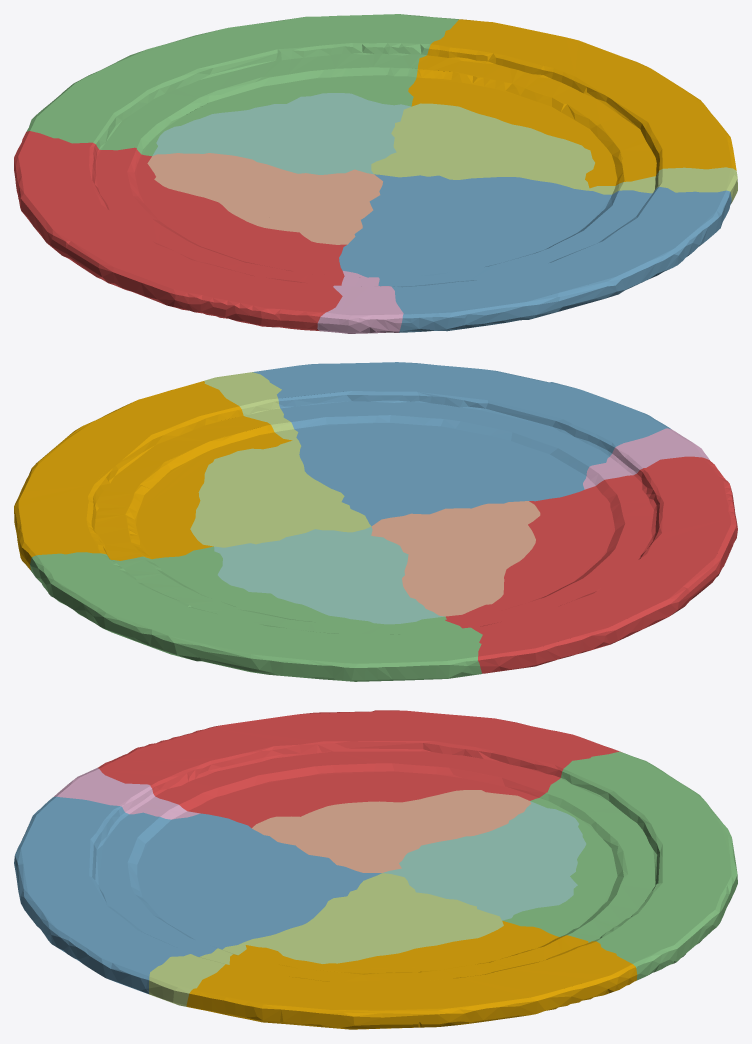
File: fractured_20_8pcs.glb
3 views of the same model, one above another, from view 1: azimuth 30°, elevation 25°; view 2: azimuth 150°, elevation 25°; view 3: azimuth 270°, elevation 25° (orthographic).
Visible parts, largest first — view 1: piece_2.obj, piece_1.obj, piece_3.obj, piece_0.obj, piece_5.obj, piece_4.obj, piece_7.obj, piece_6.obj; view 2: piece_2.obj, piece_1.obj, piece_3.obj, piece_0.obj, piece_5.obj, piece_4.obj, piece_7.obj, piece_6.obj; view 3: piece_2.obj, piece_1.obj, piece_0.obj, piece_3.obj, piece_5.obj, piece_4.obj, piece_7.obj, piece_6.obj.
Part boxes in pixels (x1,y1,x2,y2): piece_2.obj: [339, 174, 731, 332]; piece_1.obj: [14, 131, 346, 330]; piece_3.obj: [26, 14, 459, 156]; piece_0.obj: [408, 19, 736, 188]; piece_5.obj: [371, 103, 737, 204]; piece_4.obj: [152, 93, 410, 174]; piece_7.obj: [147, 153, 382, 244]; piece_6.obj: [317, 271, 403, 333]; piece_2.obj: [252, 362, 671, 526]; piece_1.obj: [445, 456, 737, 673]; piece_3.obj: [30, 546, 482, 681]; piece_0.obj: [14, 381, 292, 570]; piece_5.obj: [190, 372, 371, 547]; piece_4.obj: [214, 526, 444, 624]; piece_7.obj: [371, 501, 540, 616]; piece_6.obj: [583, 428, 709, 489]; piece_2.obj: [14, 796, 381, 994]; piece_1.obj: [97, 710, 621, 828]; piece_0.obj: [186, 920, 637, 1029]; piece_3.obj: [503, 751, 737, 980]; piece_5.obj: [149, 873, 503, 1006]; piece_4.obj: [383, 801, 586, 920]; piece_7.obj: [252, 790, 531, 872]; piece_6.obj: [54, 768, 200, 819].
Bounding box in the file's own units: 1 × 0.0277 × 0.9998.
